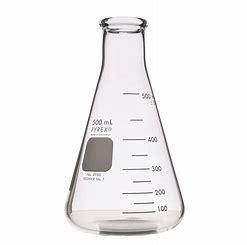Titrarion: (44, 14, 199, 234)
